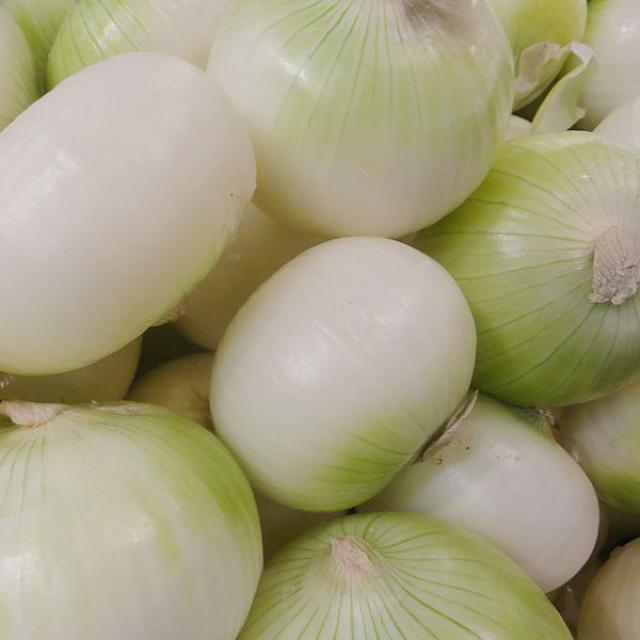onion: (1, 1, 640, 639), (200, 230, 481, 513), (1, 398, 265, 640)
